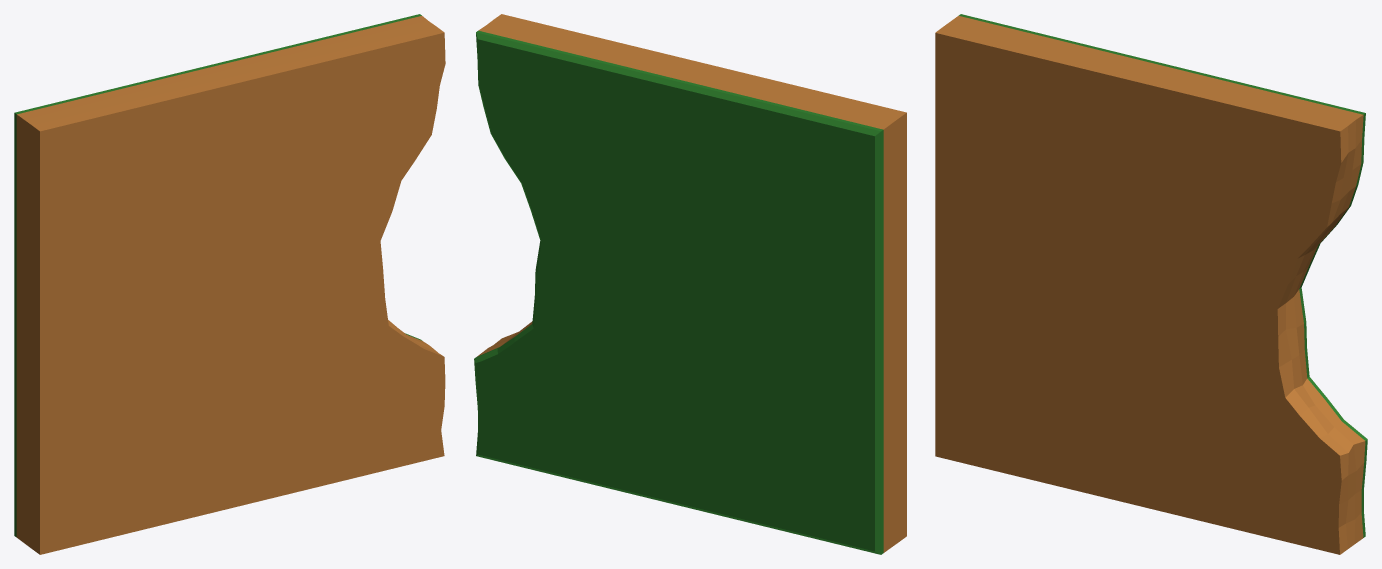
Rendered from side1v2.fbx.
The picture shows the model from 3 angles, left to right: view 1: azimuth 30°, elevation 25°; view 2: azimuth 150°, elevation 25°; view 3: azimuth 330°, elevation 25°; orthographic projection.
Parts seen in each view (by area): view 1: side1v2; view 2: side1v2; view 3: side1v2.
Boxes of the visible parts, x1=… form: side1v2: x1=14, y1=14, x2=445, y2=554; side1v2: x1=474, y1=14, x2=906, y2=554; side1v2: x1=935, y1=14, x2=1367, y2=554.
Size of the model in its own units: 2010 by 2000 by 246.
